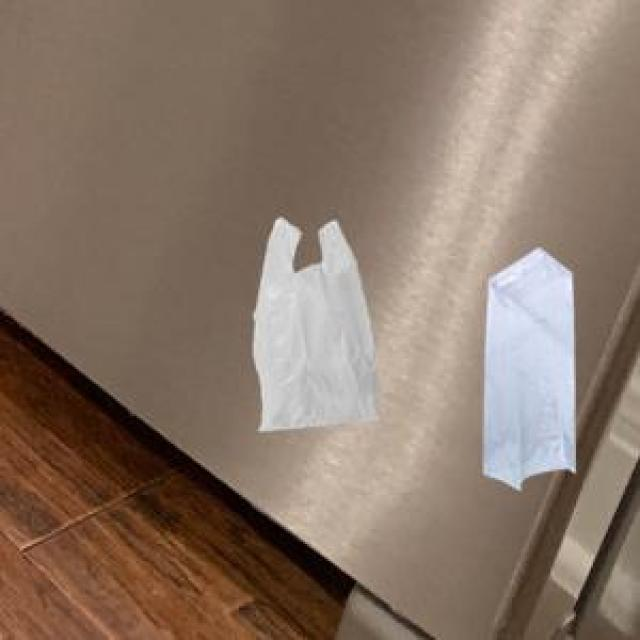Bolsa-de-nilon: (251, 218, 379, 434), (482, 249, 580, 491)
